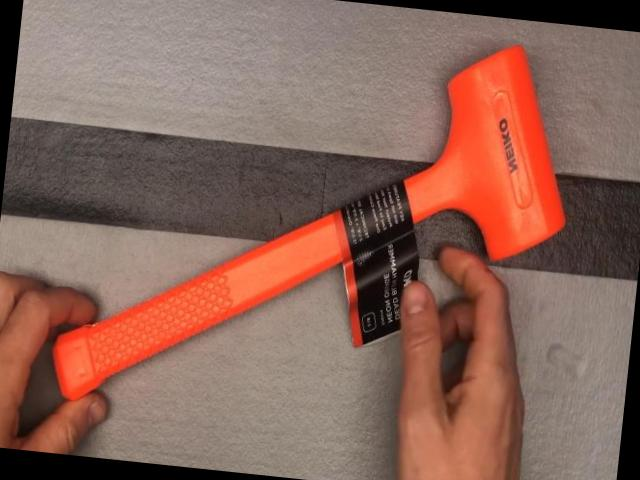hammer: (45, 0, 585, 452)
